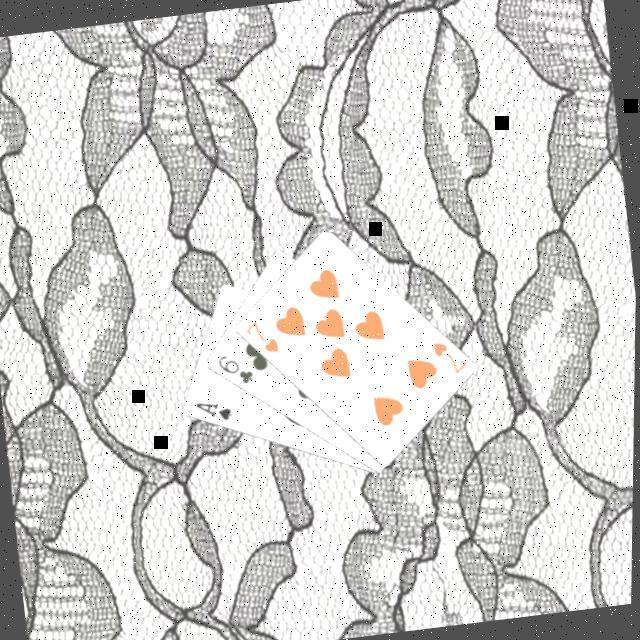6C: (213, 347, 257, 389)
7H: (427, 334, 471, 378), (240, 314, 282, 358)
AS: (191, 394, 234, 426)
